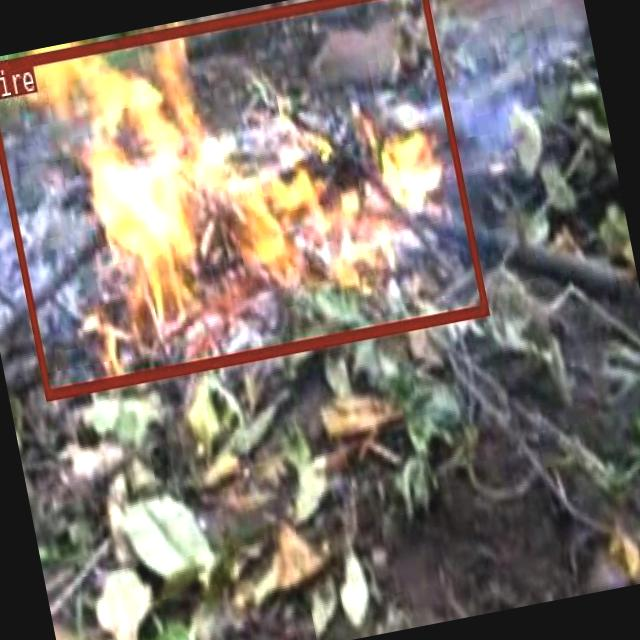fire: (0, 0, 487, 398)
